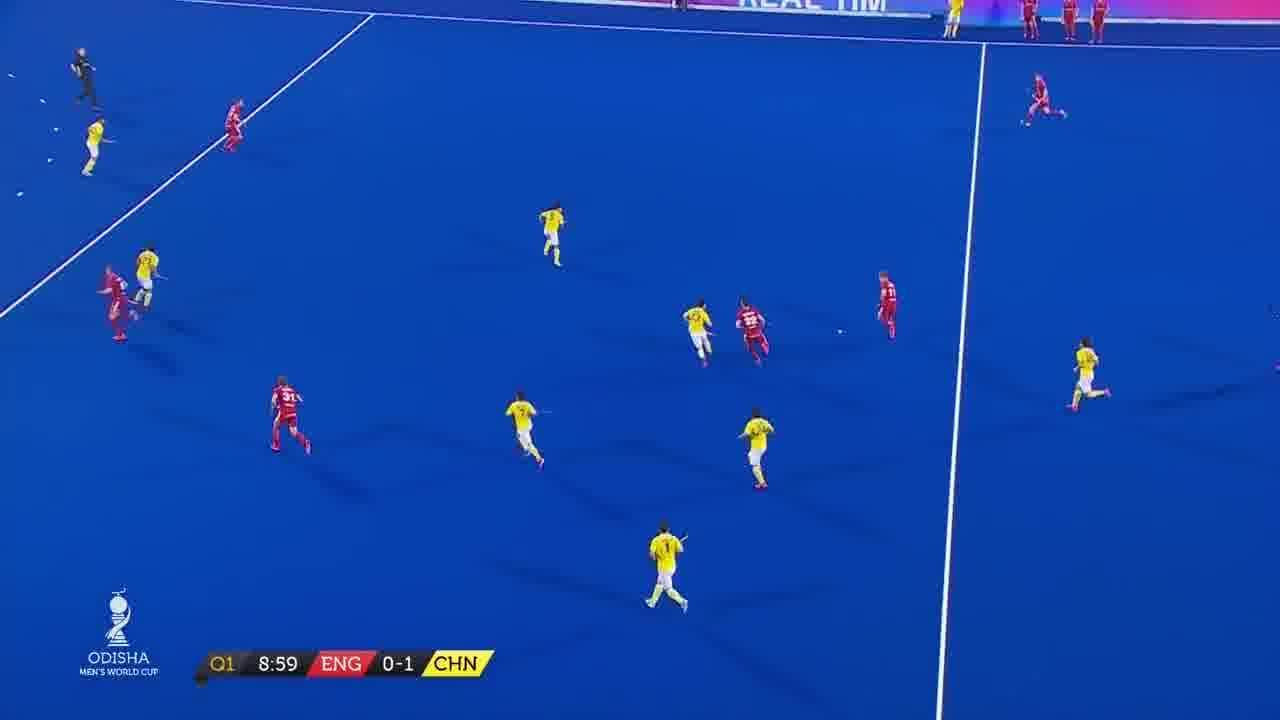ball: (838, 326, 848, 339)
